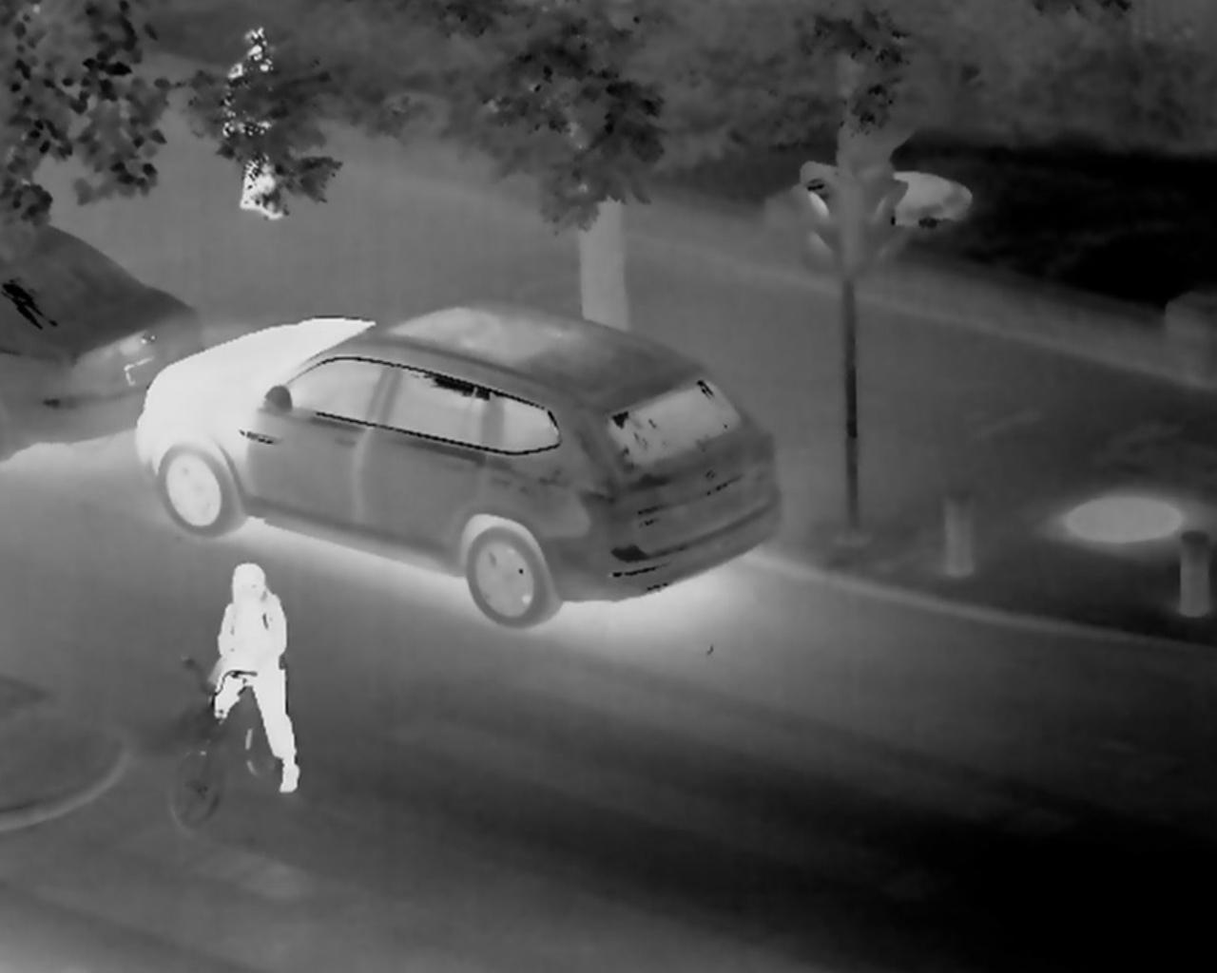person: (208, 550, 303, 799), (217, 26, 298, 227)
